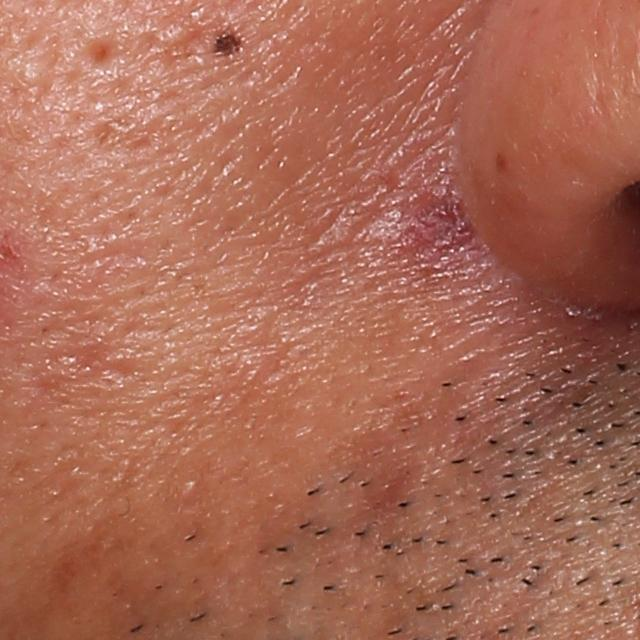atrophic_scar: (82, 31, 123, 76)
nevus: (213, 30, 243, 58)
